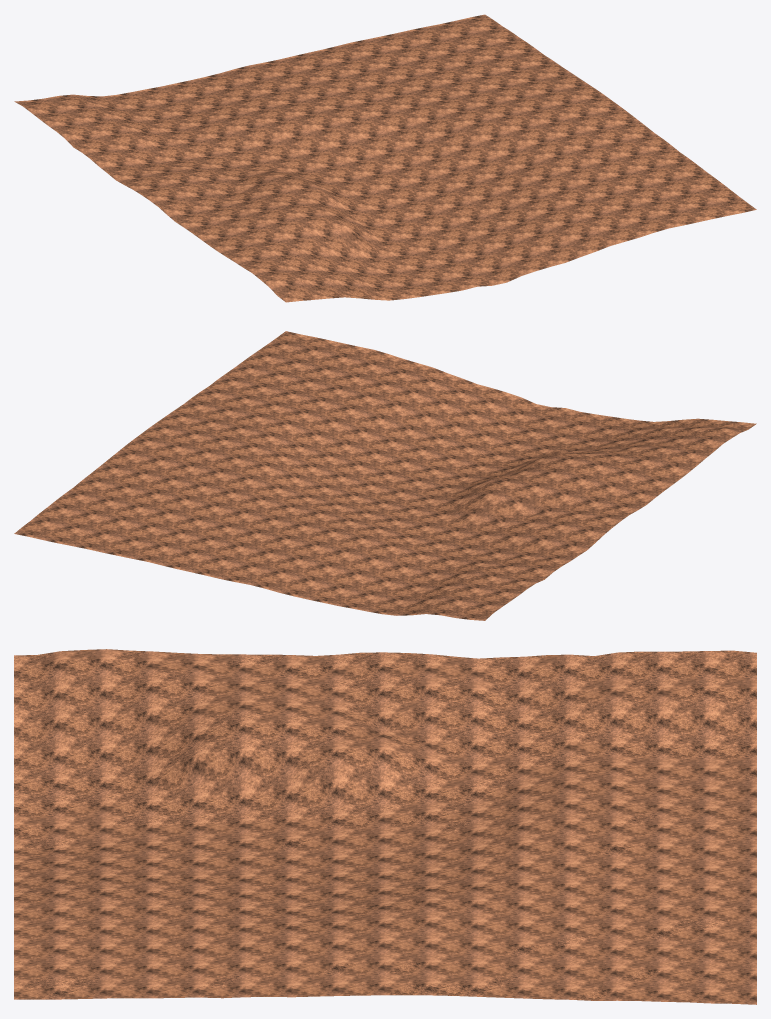
Rendered from terrain_09_14.dae.
3 renders of one model, top to bottom at view 1: azimuth 30°, elevation 25°; view 2: azimuth 150°, elevation 25°; view 3: azimuth 270°, elevation 25°, orthographic. The views are drawn at different scales.
Parts seen in each view (by area): view 1: terrain_09_14-node; view 2: terrain_09_14-node; view 3: terrain_09_14-node.
Part boxes in pixels (<box>): terrain_09_14-node: <box>14,14,756,302</box>; terrain_09_14-node: <box>14,331,756,620</box>; terrain_09_14-node: <box>14,649,756,1004</box>.
Bounding box in the file's own units: 128 × 128 × 10.03.
1 material, 1 textured.
